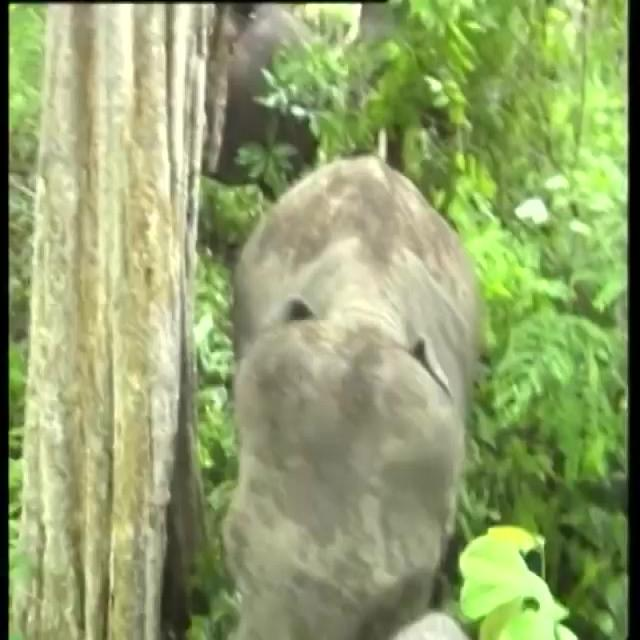Elephant: (242, 170, 466, 632)
